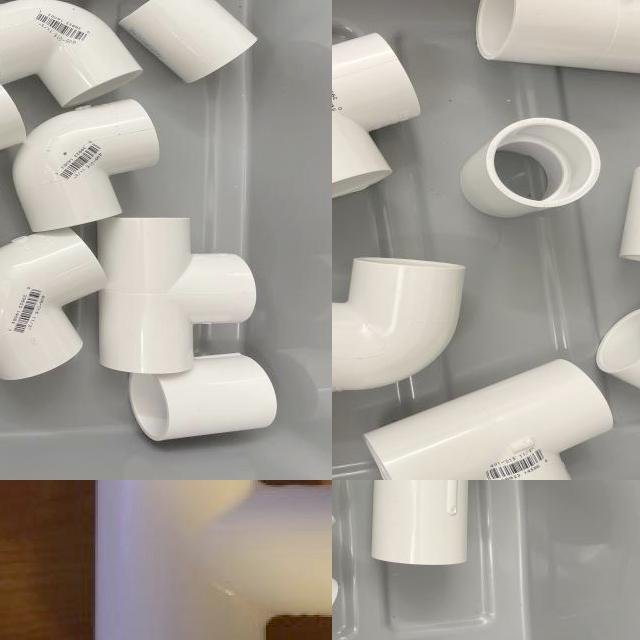L Joint: (332, 257, 468, 395), (12, 106, 158, 233), (0, 231, 110, 384)
T Joint: (92, 480, 332, 640), (362, 350, 614, 480), (97, 218, 258, 375), (332, 33, 420, 201)
